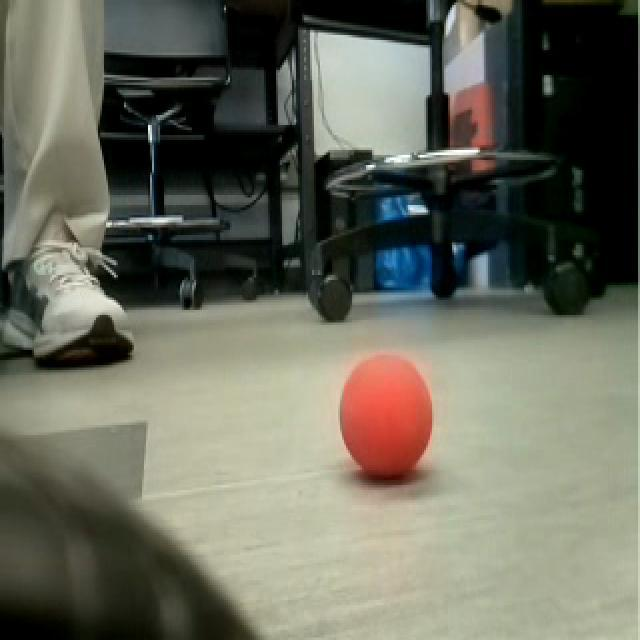oball: (332, 351, 437, 489)
